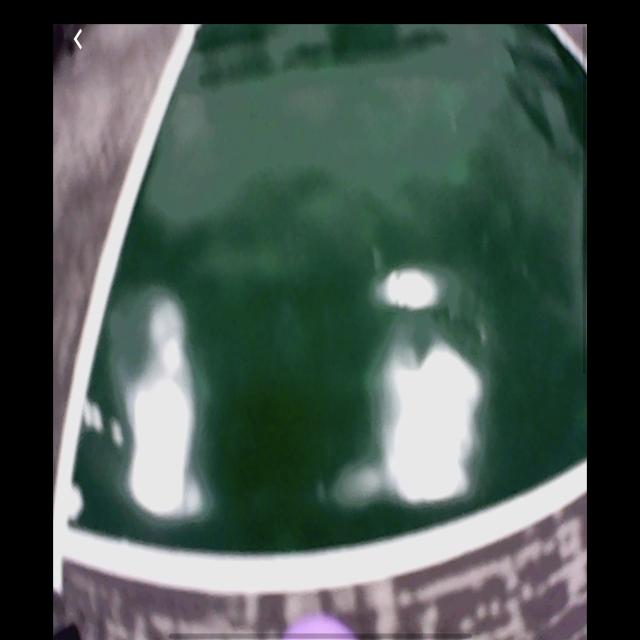ball: (281, 613, 358, 639)
